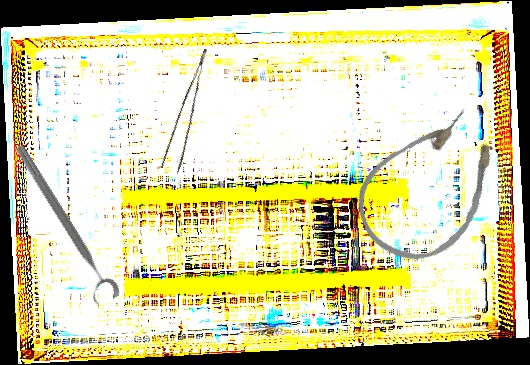Cannula: (337, 89, 526, 283)
Fixation Ring: (2, 141, 123, 309)
Tissue Forceps: (155, 48, 227, 175)
